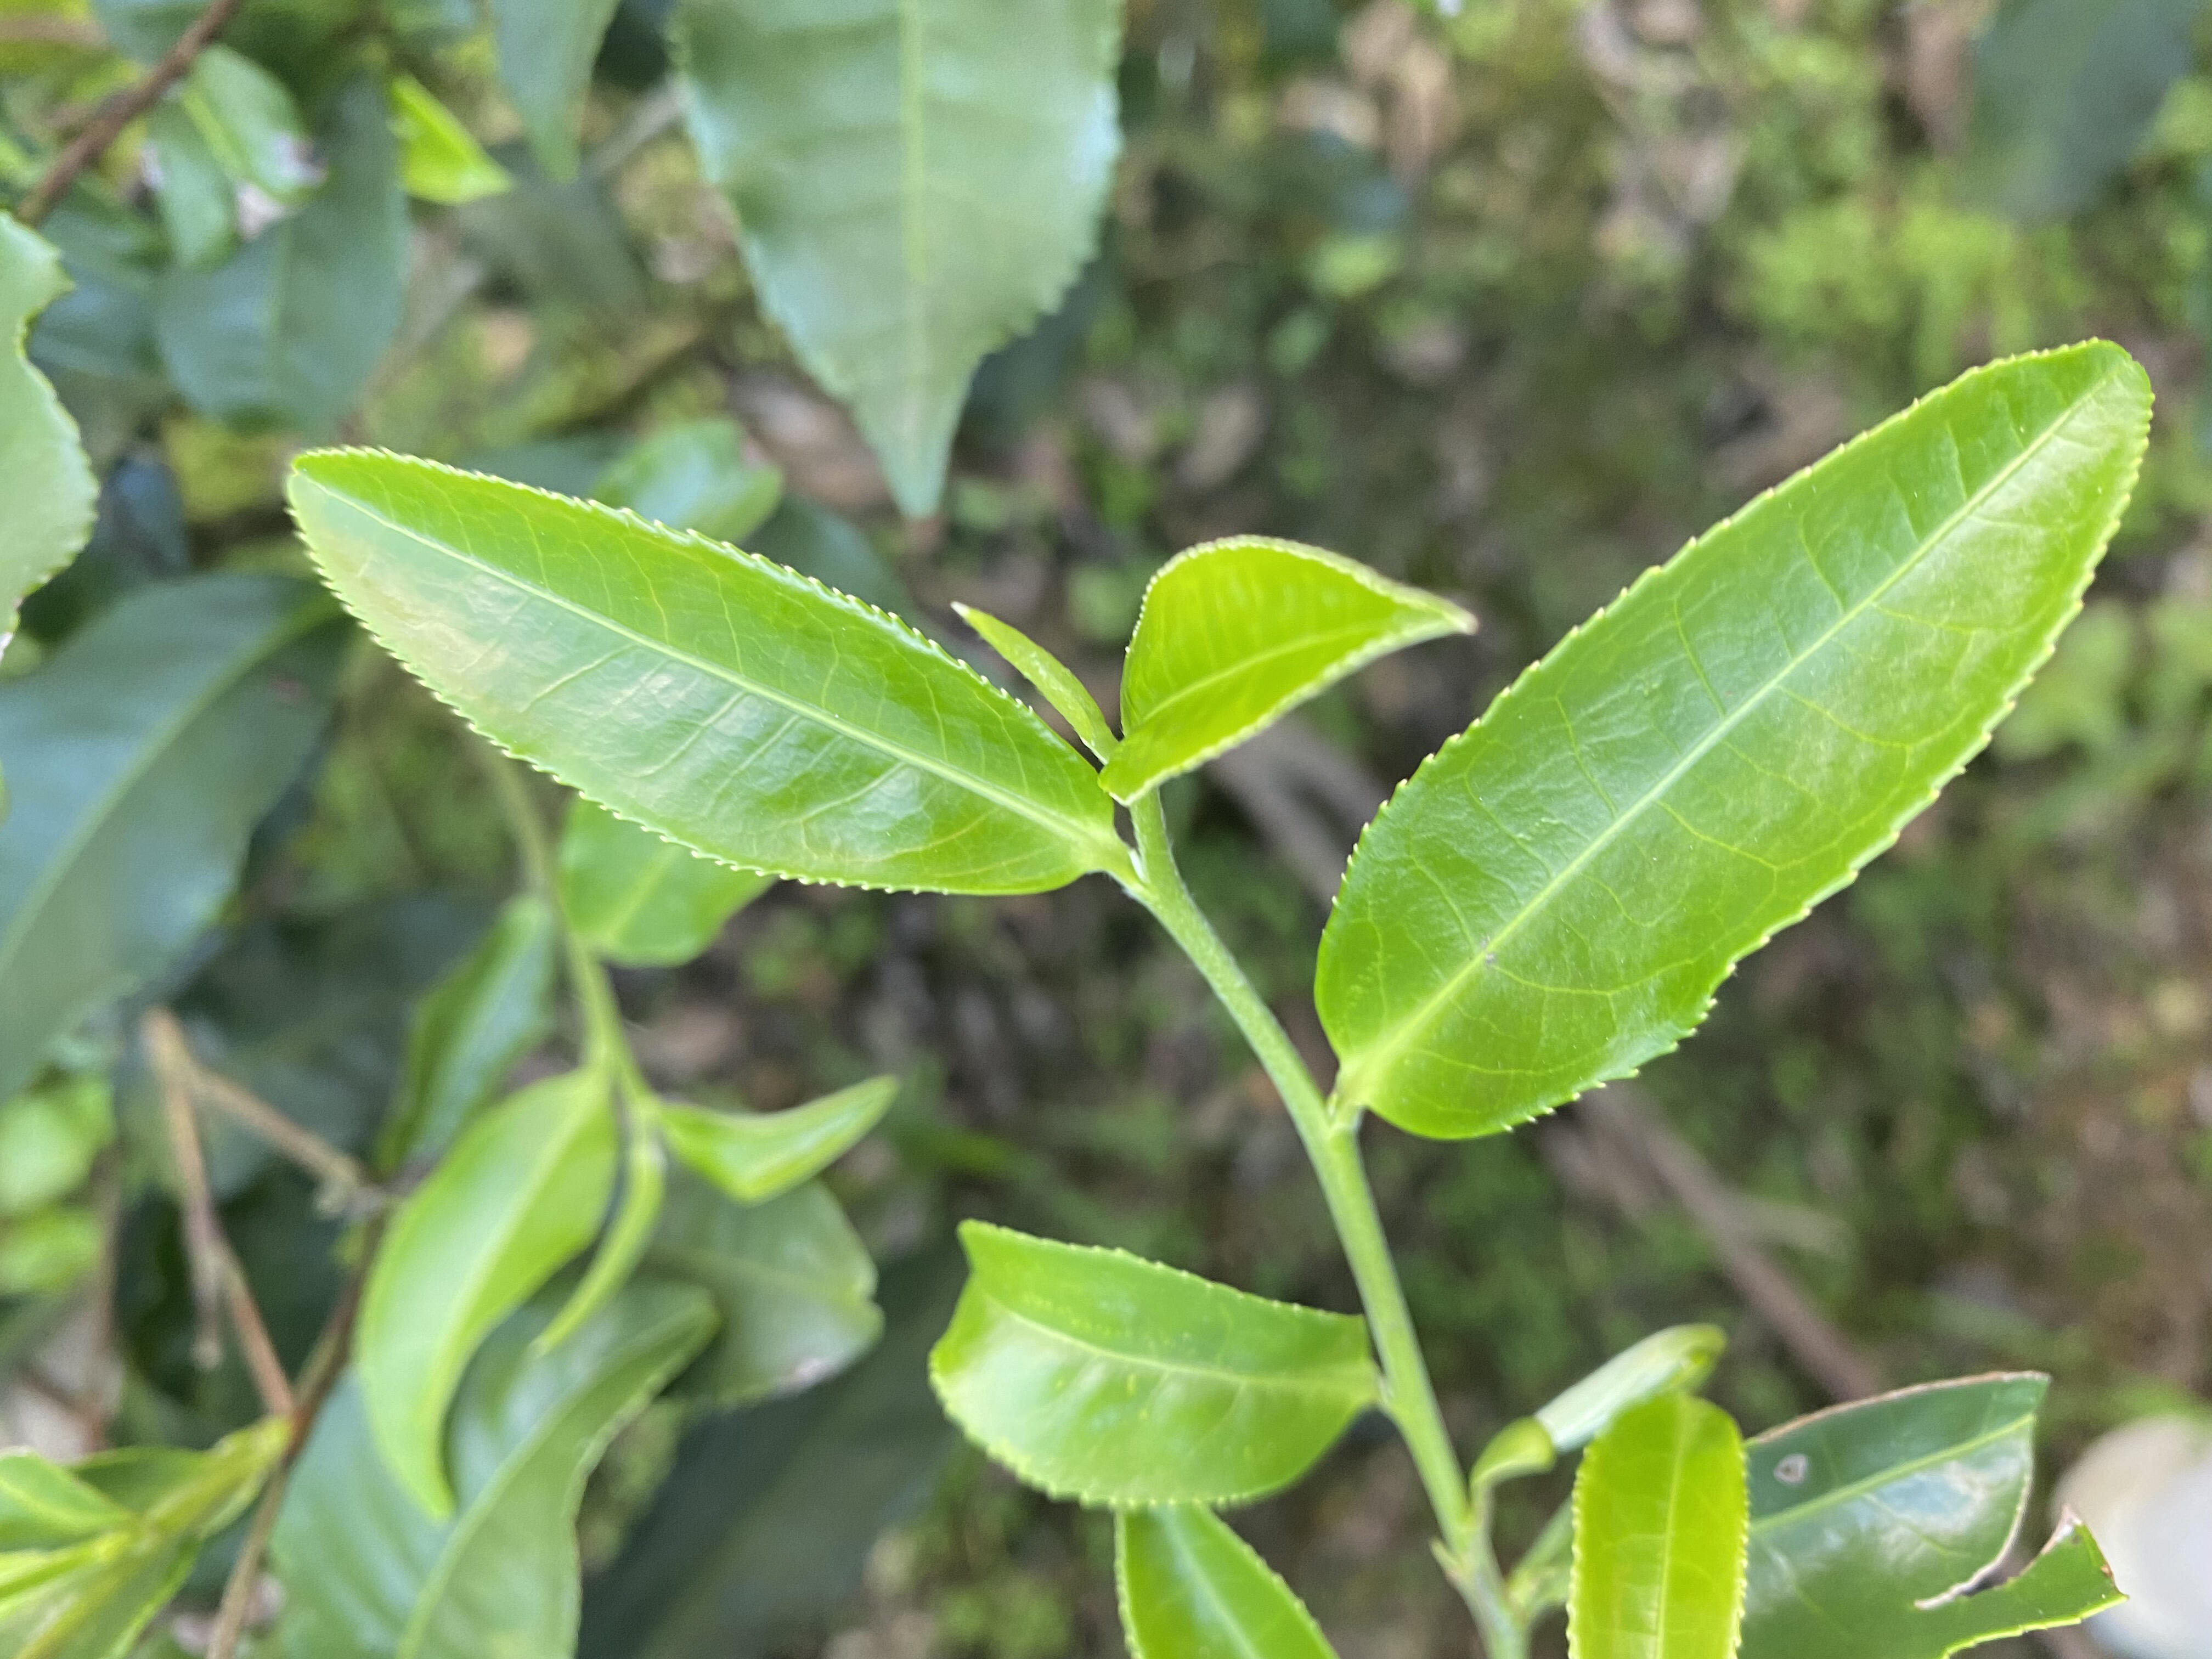chihuo_high: (1745, 1364, 2130, 1659)
healthy: (1306, 338, 2158, 1143), (280, 444, 1113, 901), (923, 1216, 1374, 1514), (1097, 535, 1480, 807), (1561, 1391, 1754, 1657)
